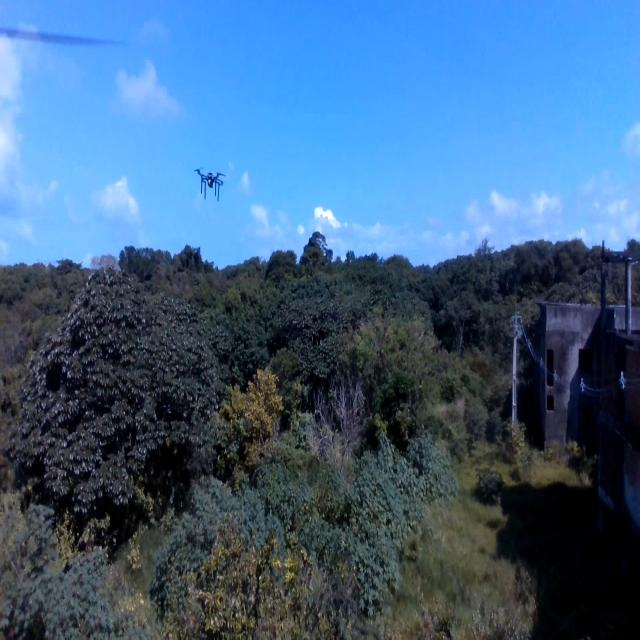-uav-: (186, 156, 232, 204)
